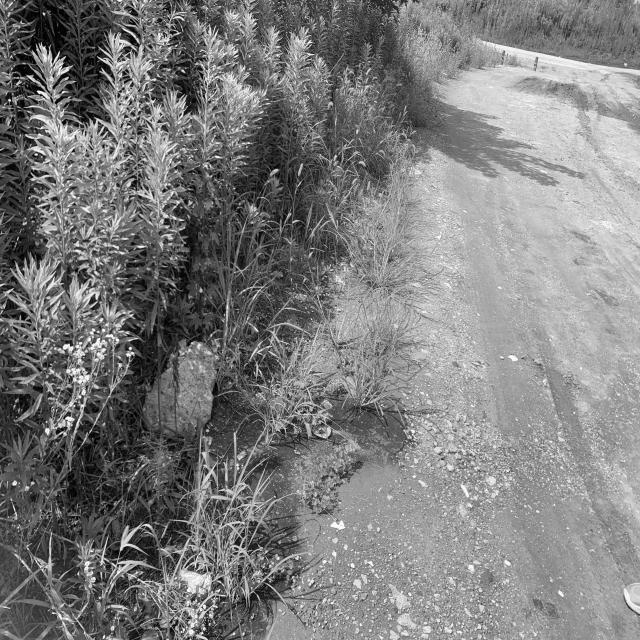Stone: (144, 341, 218, 437)
